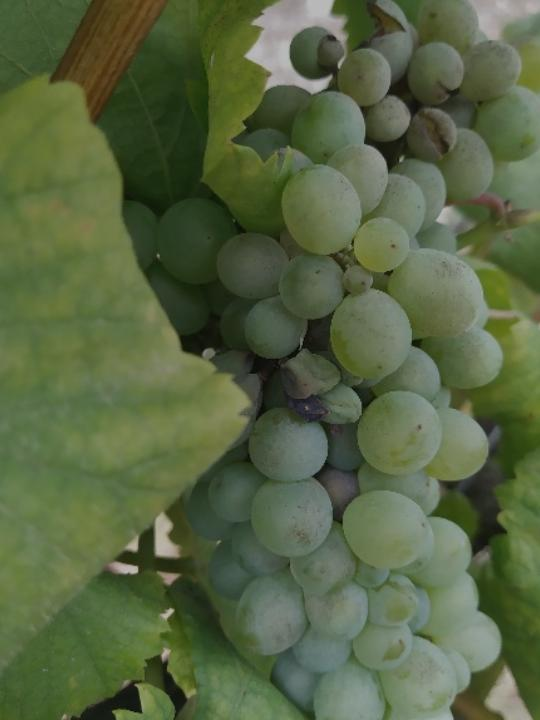grape: (152, 0, 540, 720)
